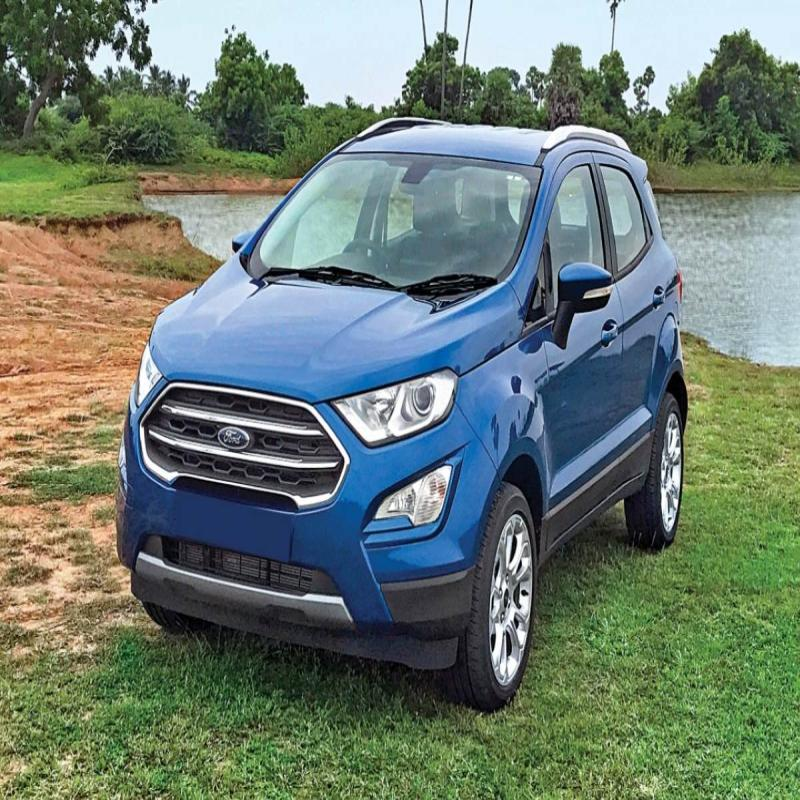car: (106, 94, 688, 717)
